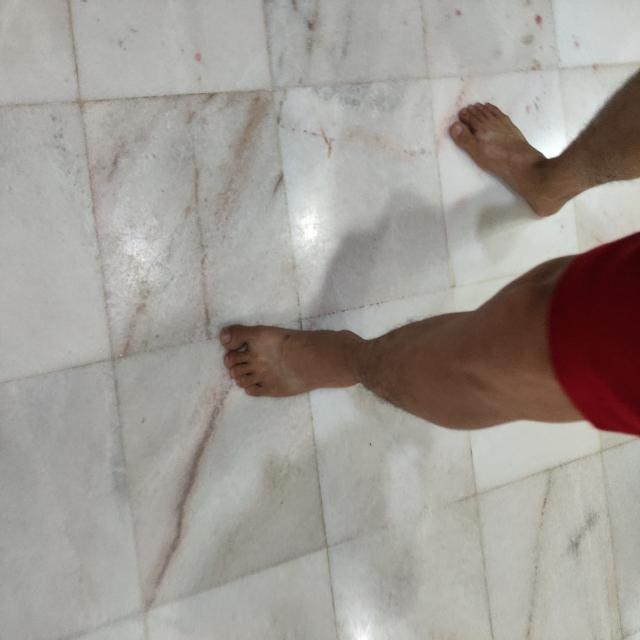No_Shoes: (197, 278, 385, 402), (445, 78, 569, 224)
